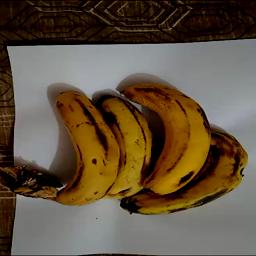Banana Unripe: (19, 74, 246, 216), (124, 80, 213, 199), (40, 90, 121, 209), (100, 88, 159, 209)
